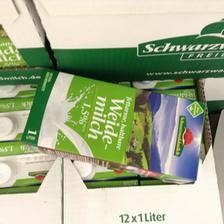Milch: (14, 67, 210, 185)
